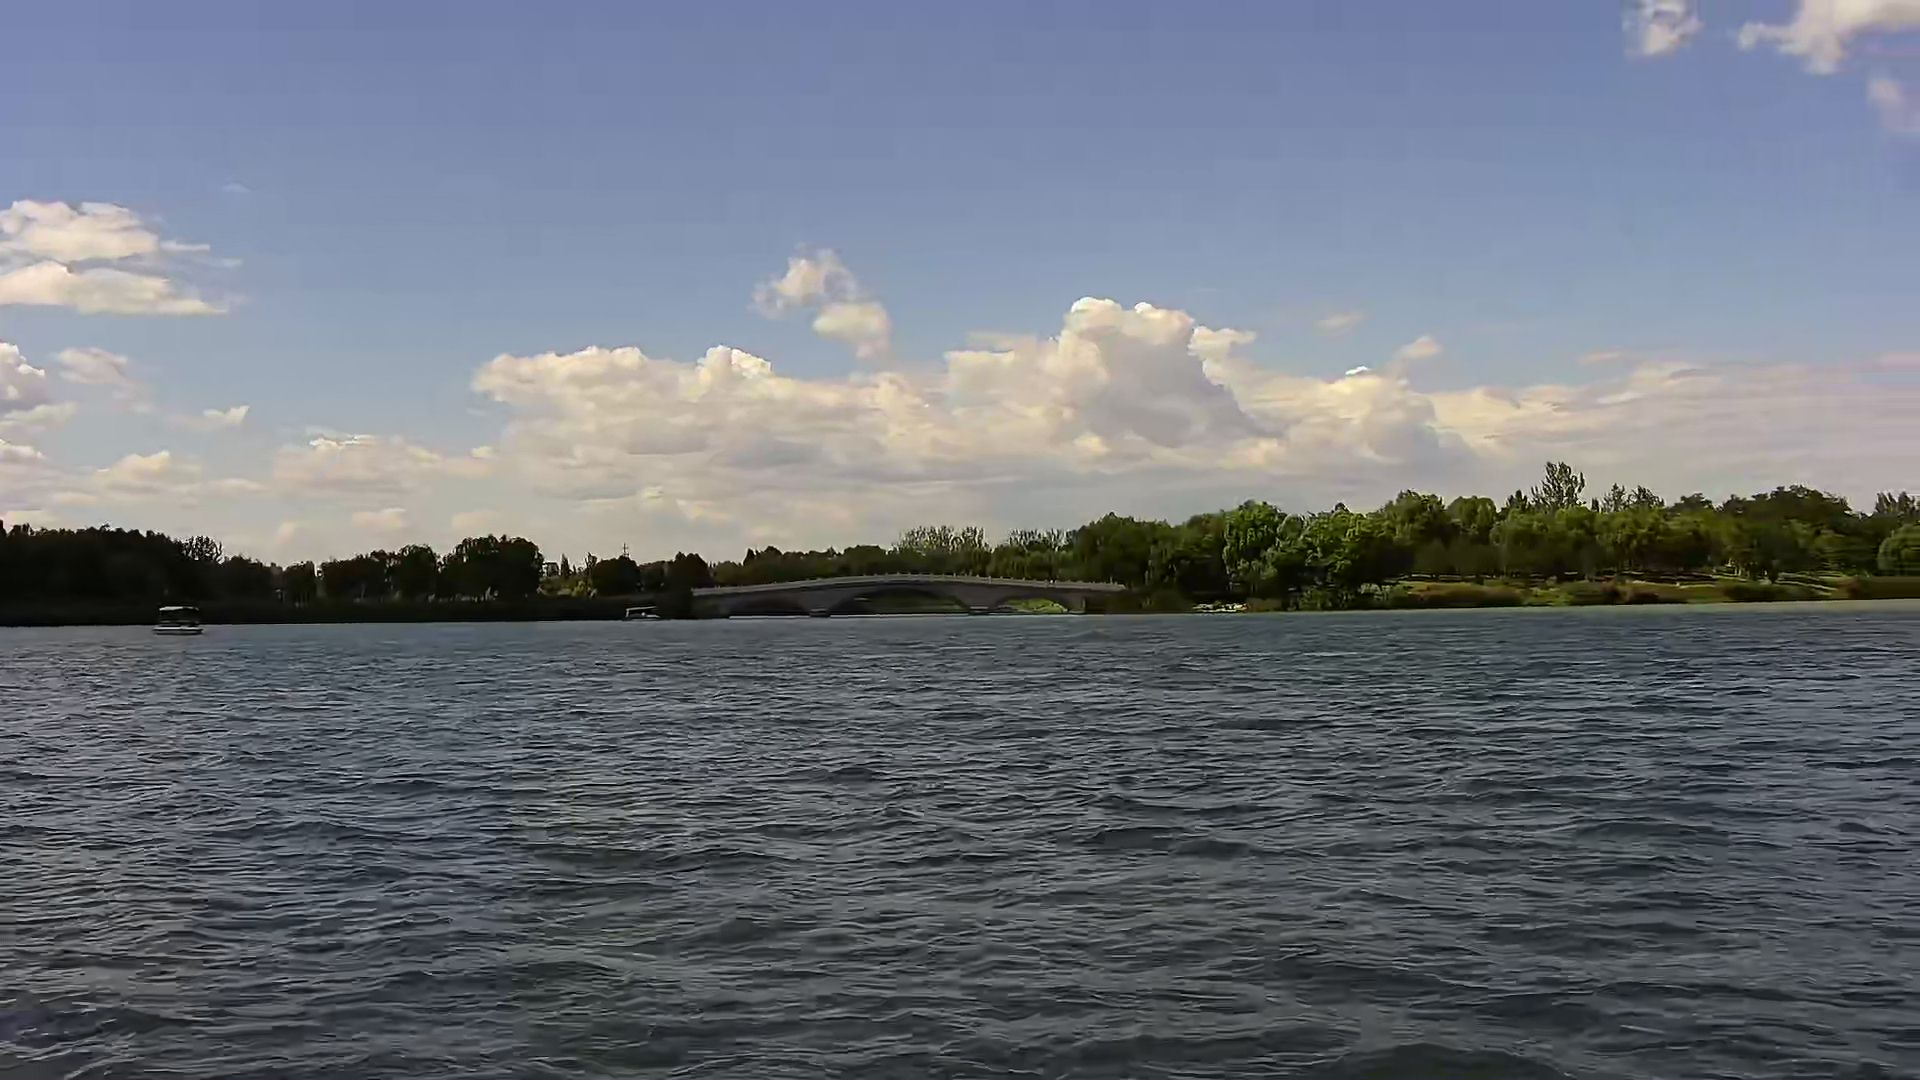boat: (146, 597, 212, 642)
bridge: (678, 574, 1145, 622)
